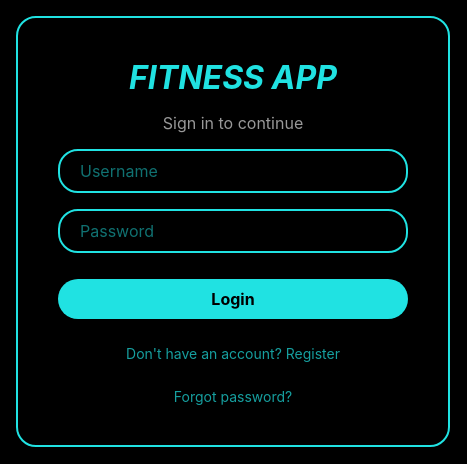
Test: LoginPage › moves to step 2 on successful login
Type "u" into the field with placeholder "Username".
click(233, 171); type("u")  # box [58,149,408,193]
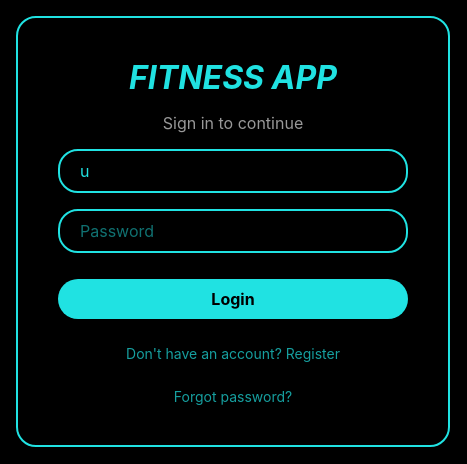
Type "p" into the password field with placeholder "Password".
click(233, 231); type("p")  # box [58,209,408,253]
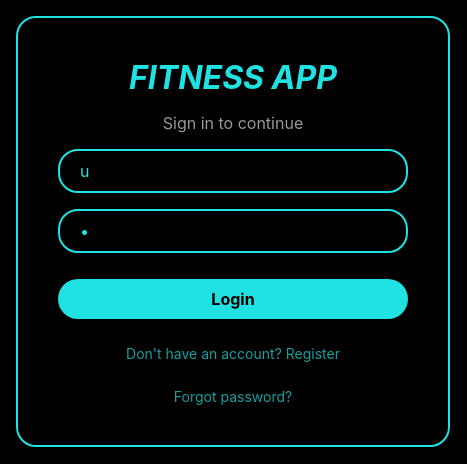
Click the button "Login".
click(233, 299)  # box [58,279,408,319]
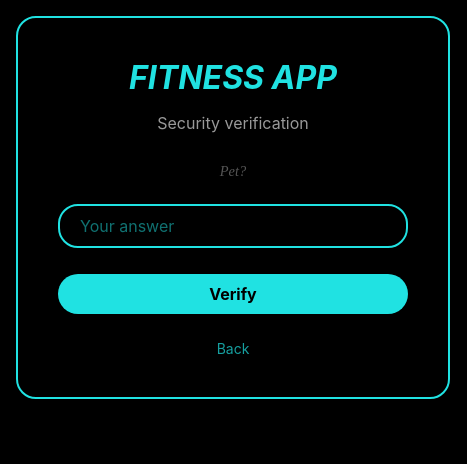
Expected: the text "Security verification" is shown, [157,113,309,133]
